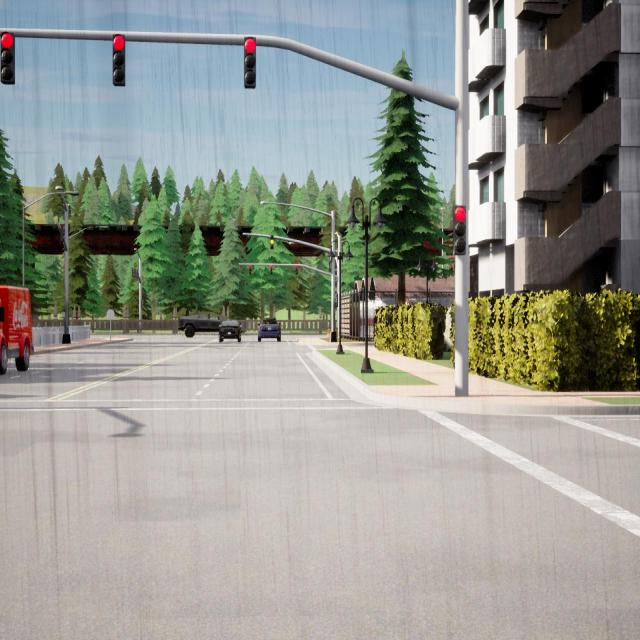Traffic_Signs: (107, 310, 114, 319)
Vehicle: (0, 285, 31, 375), (176, 314, 223, 338), (258, 318, 281, 342), (219, 320, 241, 342)
traffic_light: (1, 32, 16, 84), (453, 206, 466, 255), (113, 35, 125, 86), (244, 38, 256, 88), (60, 226, 64, 241), (270, 236, 274, 249), (249, 264, 252, 274), (295, 266, 298, 274), (270, 265, 272, 275), (132, 268, 134, 277), (134, 269, 136, 278), (136, 270, 138, 278), (141, 300, 143, 308)
